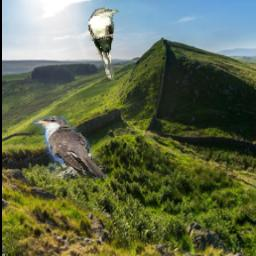Cuckoo: (32, 117, 106, 179), (87, 8, 118, 80)
